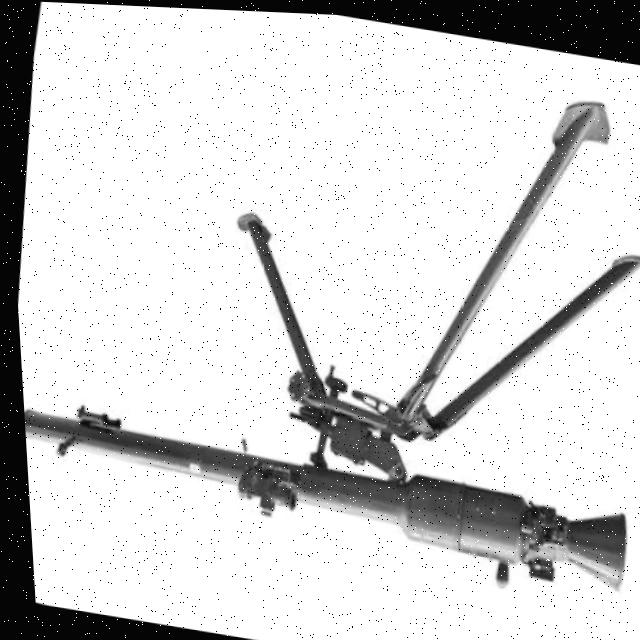rocket: (17, 373, 631, 604)
